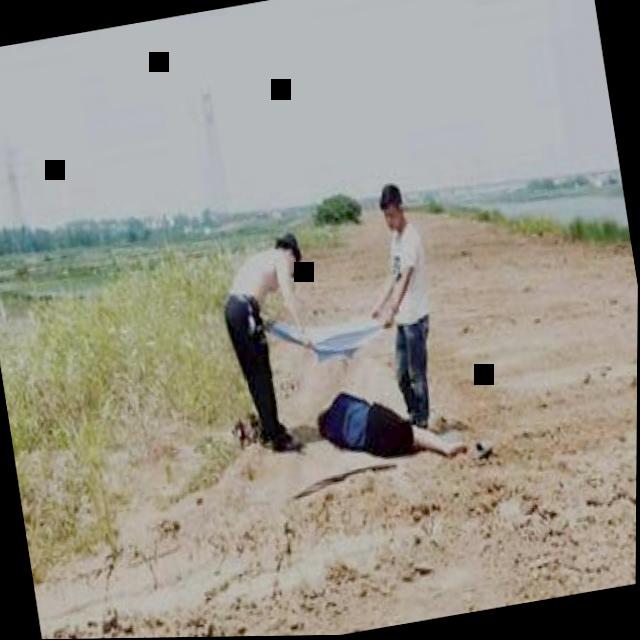Fall-Detected: (305, 362, 470, 486)
